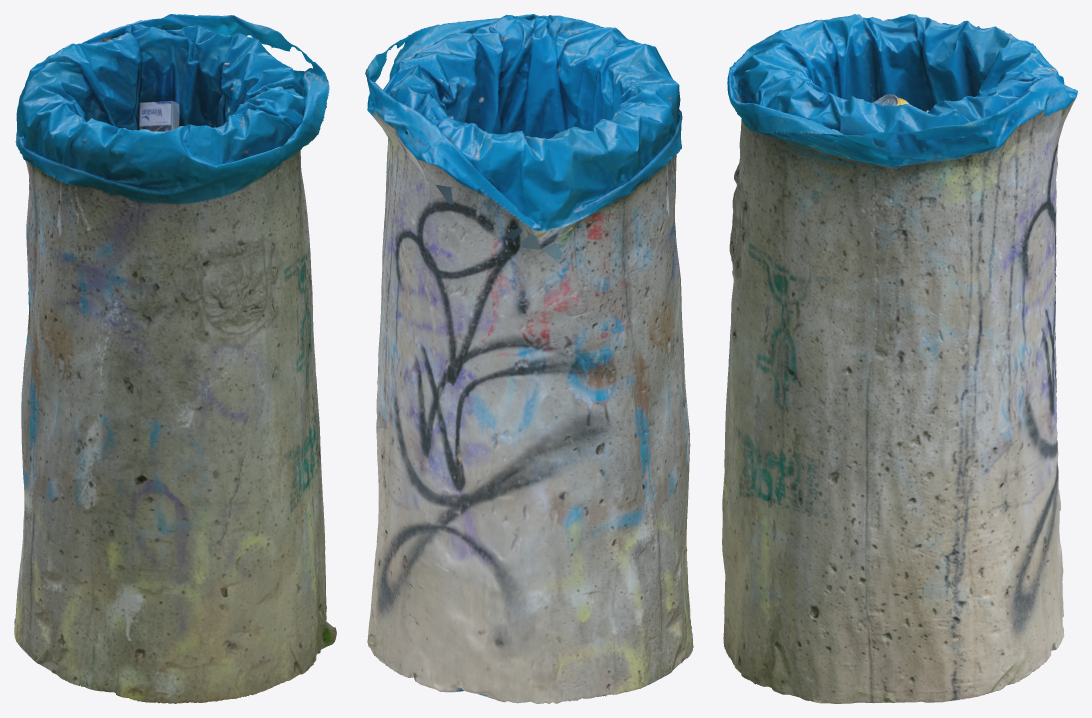
Rendered from concrete_trash_bin.glb.
3 views of the same model, side by side, from view 1: azimuth 30°, elevation 25°; view 2: azimuth 150°, elevation 25°; view 3: azimuth 270°, elevation 25° (orthographic). The views are drawn at different scales.
Visible parts, largest first — view 1: Object_2, Object_4, Object_3, Object_5; view 2: Object_2, Object_3, Object_4, Object_5; view 3: Object_5, Object_4, Object_2, Object_3.
Boxes of the visible parts, x1,y1,x2,y2 form: Object_2: (15, 35, 318, 701); Object_4: (14, 14, 336, 703); Object_3: (16, 40, 329, 584); Object_5: (16, 15, 325, 630); Object_2: (392, 38, 693, 644); Object_3: (368, 14, 689, 604); Object_4: (367, 15, 693, 703); Object_5: (365, 14, 688, 702); Object_5: (722, 20, 1064, 683); Object_4: (722, 14, 1077, 703); Object_2: (722, 33, 1063, 702); Object_3: (724, 14, 1070, 548).
Bounding box in the file's own units: 0.5233 × 1.04 × 0.569.
1 material, 1 textured.
